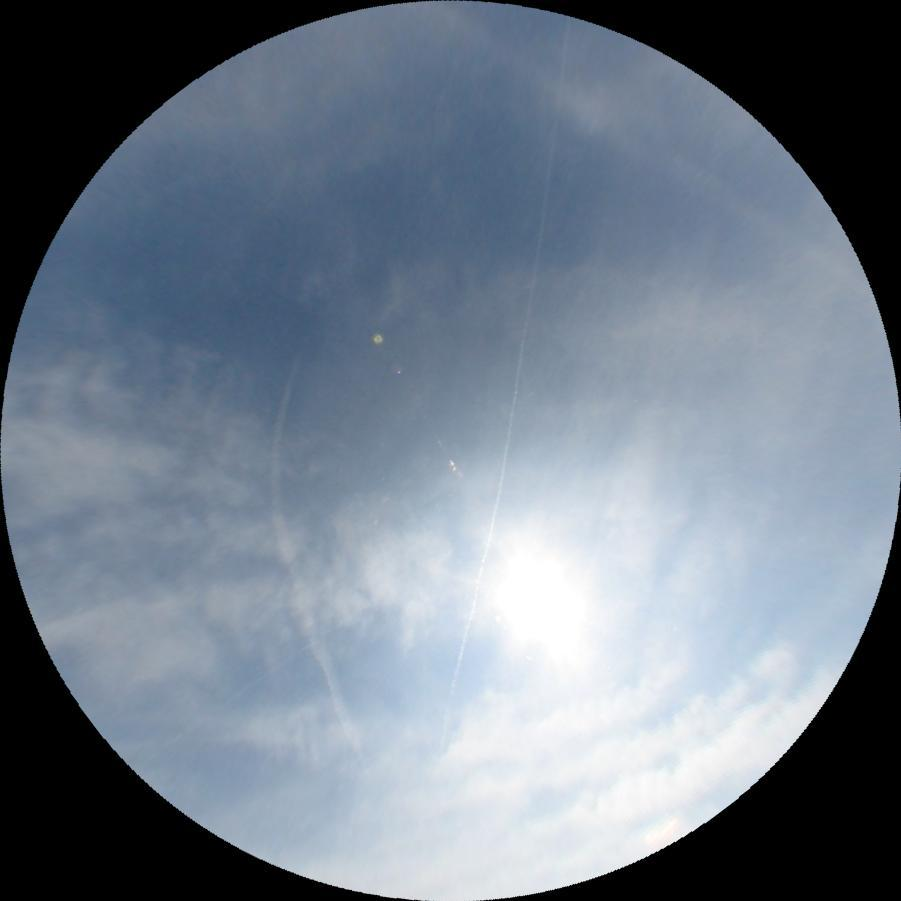contrail old: (250, 350, 356, 747)
contrail veryold: (406, 0, 884, 295)
contrail young: (433, 16, 583, 753)
sun: (480, 542, 603, 663)
